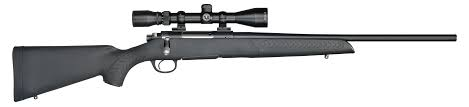gun: (12, 3, 457, 103)
